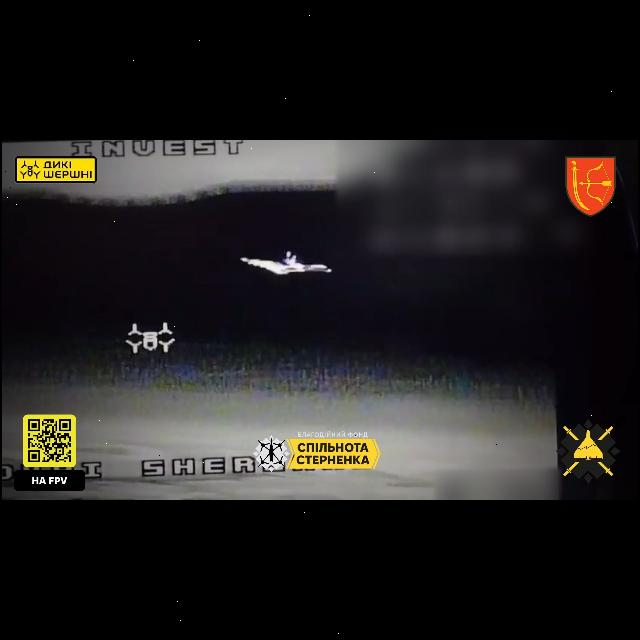Gerbera: (240, 251, 332, 275)
